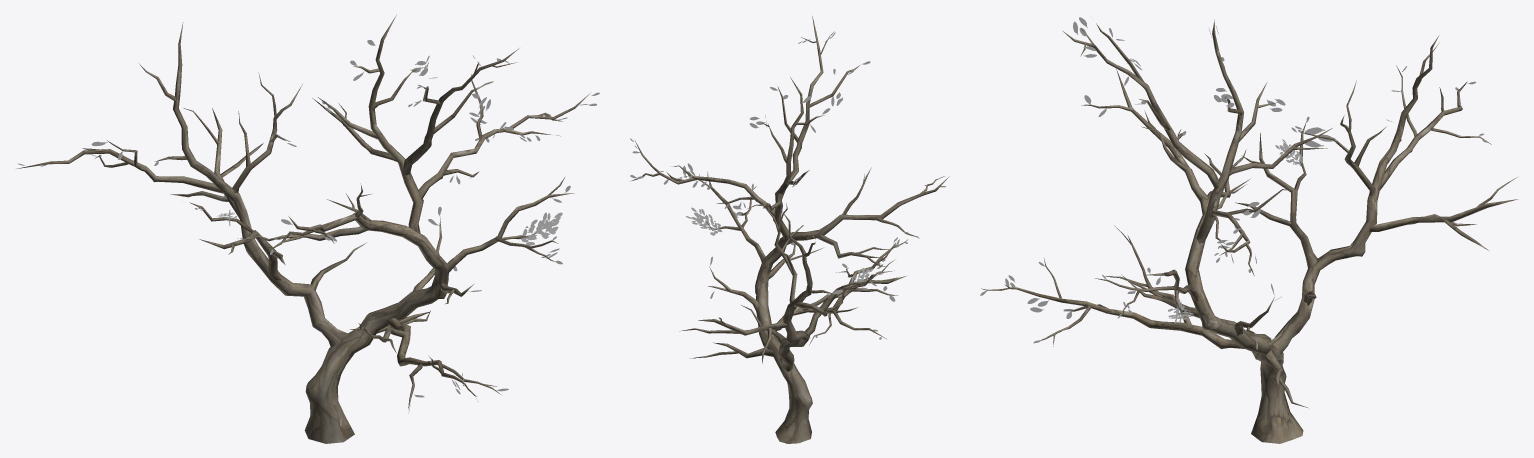
Rendered from SM_Com_Tre_28AL.fbx.
3 renders of one model, left to right at view 1: azimuth 30°, elevation 25°; view 2: azimuth 150°, elevation 25°; view 3: azimuth 270°, elevation 25°, orthographic. The views are drawn at different scales.
Visible parts, largest first — view 1: SM_Com_Tre_28AL.mo; view 2: SM_Com_Tre_28AL.mo; view 3: SM_Com_Tre_28AL.mo.
Part boxes in pixels (bbox=[...]): SM_Com_Tre_28AL.mo: bbox=[17, 15, 599, 443]; SM_Com_Tre_28AL.mo: bbox=[630, 16, 949, 443]; SM_Com_Tre_28AL.mo: bbox=[980, 17, 1518, 443].
Size of the model in its own units: 18.93 by 17.48 by 19.28.
